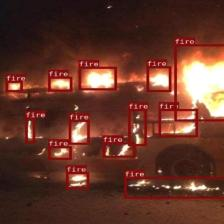fire: (173, 43, 224, 120), (124, 176, 224, 198), (158, 109, 197, 137), (78, 66, 117, 90), (128, 108, 146, 146), (146, 66, 171, 92), (68, 119, 90, 144), (102, 142, 135, 157), (48, 76, 72, 91), (66, 172, 88, 188), (48, 145, 71, 159), (24, 118, 34, 144), (5, 81, 22, 92)
